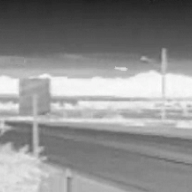Target: (114, 64, 128, 72)
